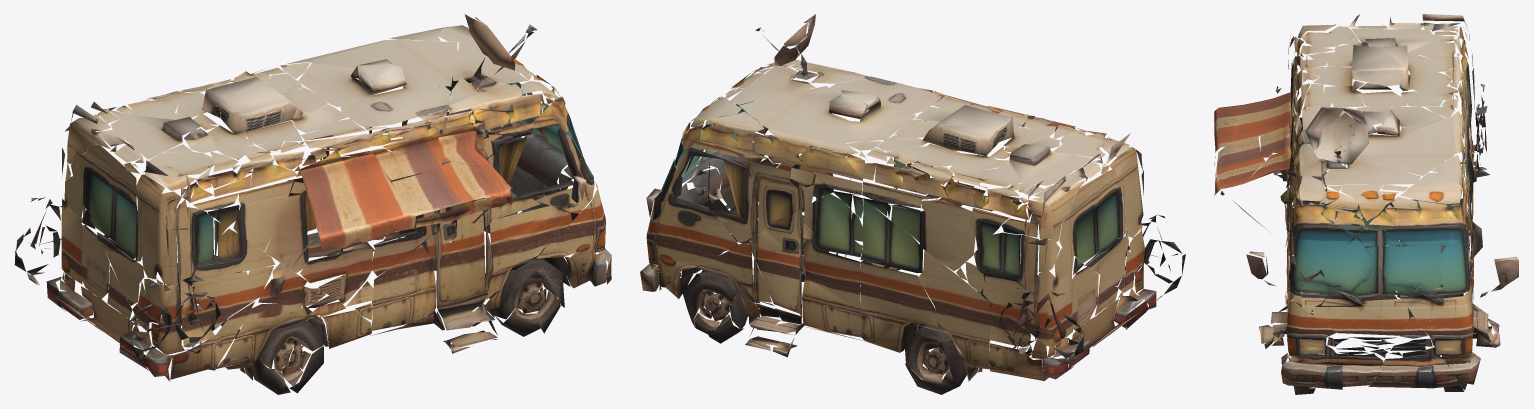
The picture shows the model from 3 angles, left to right: view 1: azimuth 30°, elevation 25°; view 2: azimuth 150°, elevation 25°; view 3: azimuth 270°, elevation 25°; orthographic projection. The views are drawn at different scales.
Parts seen in each view (by area): view 1: tripo_node_2698c825-b179-4297-bde1-d8b6a7fd6bc7; view 2: tripo_node_2698c825-b179-4297-bde1-d8b6a7fd6bc7; view 3: tripo_node_2698c825-b179-4297-bde1-d8b6a7fd6bc7.
Part boxes in pixels (x1,y1,x2,y2): tripo_node_2698c825-b179-4297-bde1-d8b6a7fd6bc7: (14, 14, 611, 394); tripo_node_2698c825-b179-4297-bde1-d8b6a7fd6bc7: (640, 14, 1185, 394); tripo_node_2698c825-b179-4297-bde1-d8b6a7fd6bc7: (1214, 14, 1518, 394).
Bounding box in the file's own units: 5.4 × 3.2 × 3.26.
Materials: 1 (1 with a texture image).
